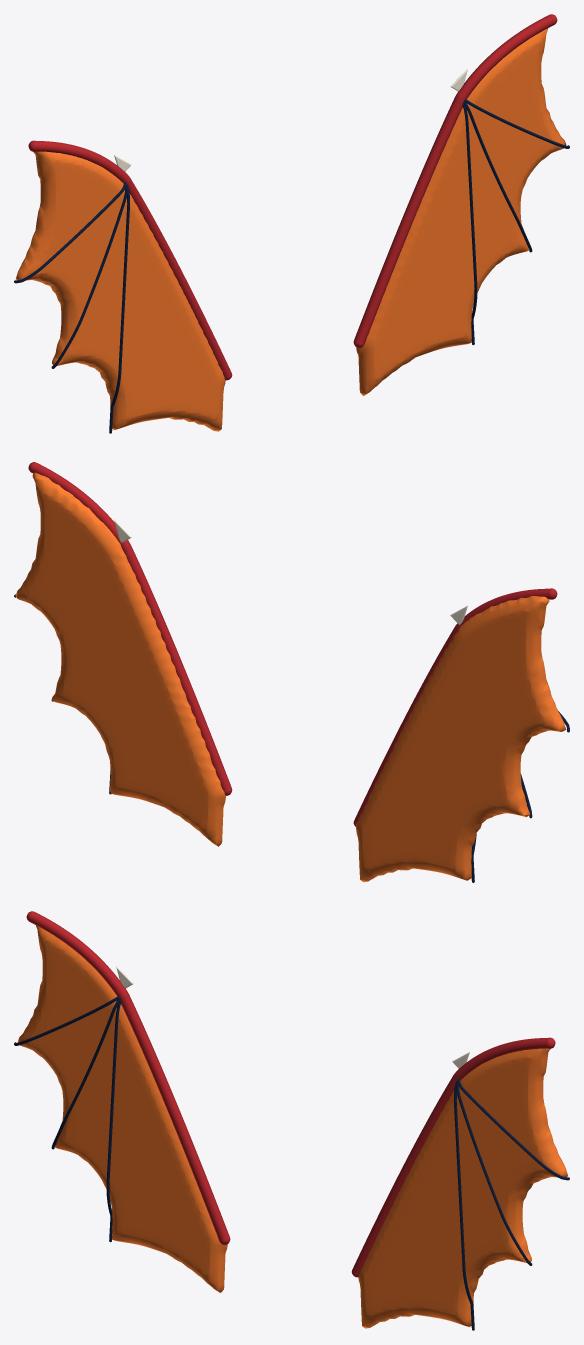
The model's file is wings-feather.glb.
3 views of the same model, one above another, from view 1: azimuth 30°, elevation 25°; view 2: azimuth 150°, elevation 25°; view 3: azimuth 330°, elevation 25° (orthographic).
Parts seen in each view (by area): view 1: wings_0_solid, wings_7_solid, wings_11_line, wings_4_line, wings_3_line, wings_10_line, wings_2_line, wings_9_line, wings_1_line; view 2: wings_0_solid, wings_7_solid, wings_11_line, wings_4_line; view 3: wings_7_solid, wings_0_solid, wings_4_line, wings_11_line, wings_10_line, wings_3_line, wings_9_line, wings_2_line, wings_8_line.
Boxes of the visible parts, bbox=[...] form: wings_0_solid: bbox=[16, 151, 225, 431]; wings_7_solid: bbox=[356, 28, 566, 395]; wings_11_line: bbox=[353, 14, 557, 347]; wings_4_line: bbox=[28, 140, 232, 380]; wings_3_line: bbox=[109, 185, 129, 433]; wings_10_line: bbox=[462, 103, 477, 345]; wings_2_line: bbox=[51, 184, 127, 368]; wings_9_line: bbox=[463, 101, 532, 252]; wings_1_line: bbox=[14, 182, 126, 283]; wings_0_solid: bbox=[356, 596, 566, 882]; wings_7_solid: bbox=[15, 472, 225, 846]; wings_11_line: bbox=[28, 462, 232, 795]; wings_4_line: bbox=[353, 588, 557, 826]; wings_7_solid: bbox=[358, 1048, 567, 1328]; wings_0_solid: bbox=[17, 925, 227, 1292]; wings_4_line: bbox=[26, 911, 230, 1244]; wings_11_line: bbox=[351, 1037, 555, 1277]; wings_10_line: bbox=[454, 1082, 474, 1330]; wings_3_line: bbox=[106, 1000, 121, 1242]; wings_9_line: bbox=[456, 1081, 532, 1265]; wings_2_line: bbox=[51, 998, 120, 1149]; wings_8_line: bbox=[457, 1079, 569, 1180].
Bounding box in the file's own units: 2.01 × 1.17 × 0.0849.
